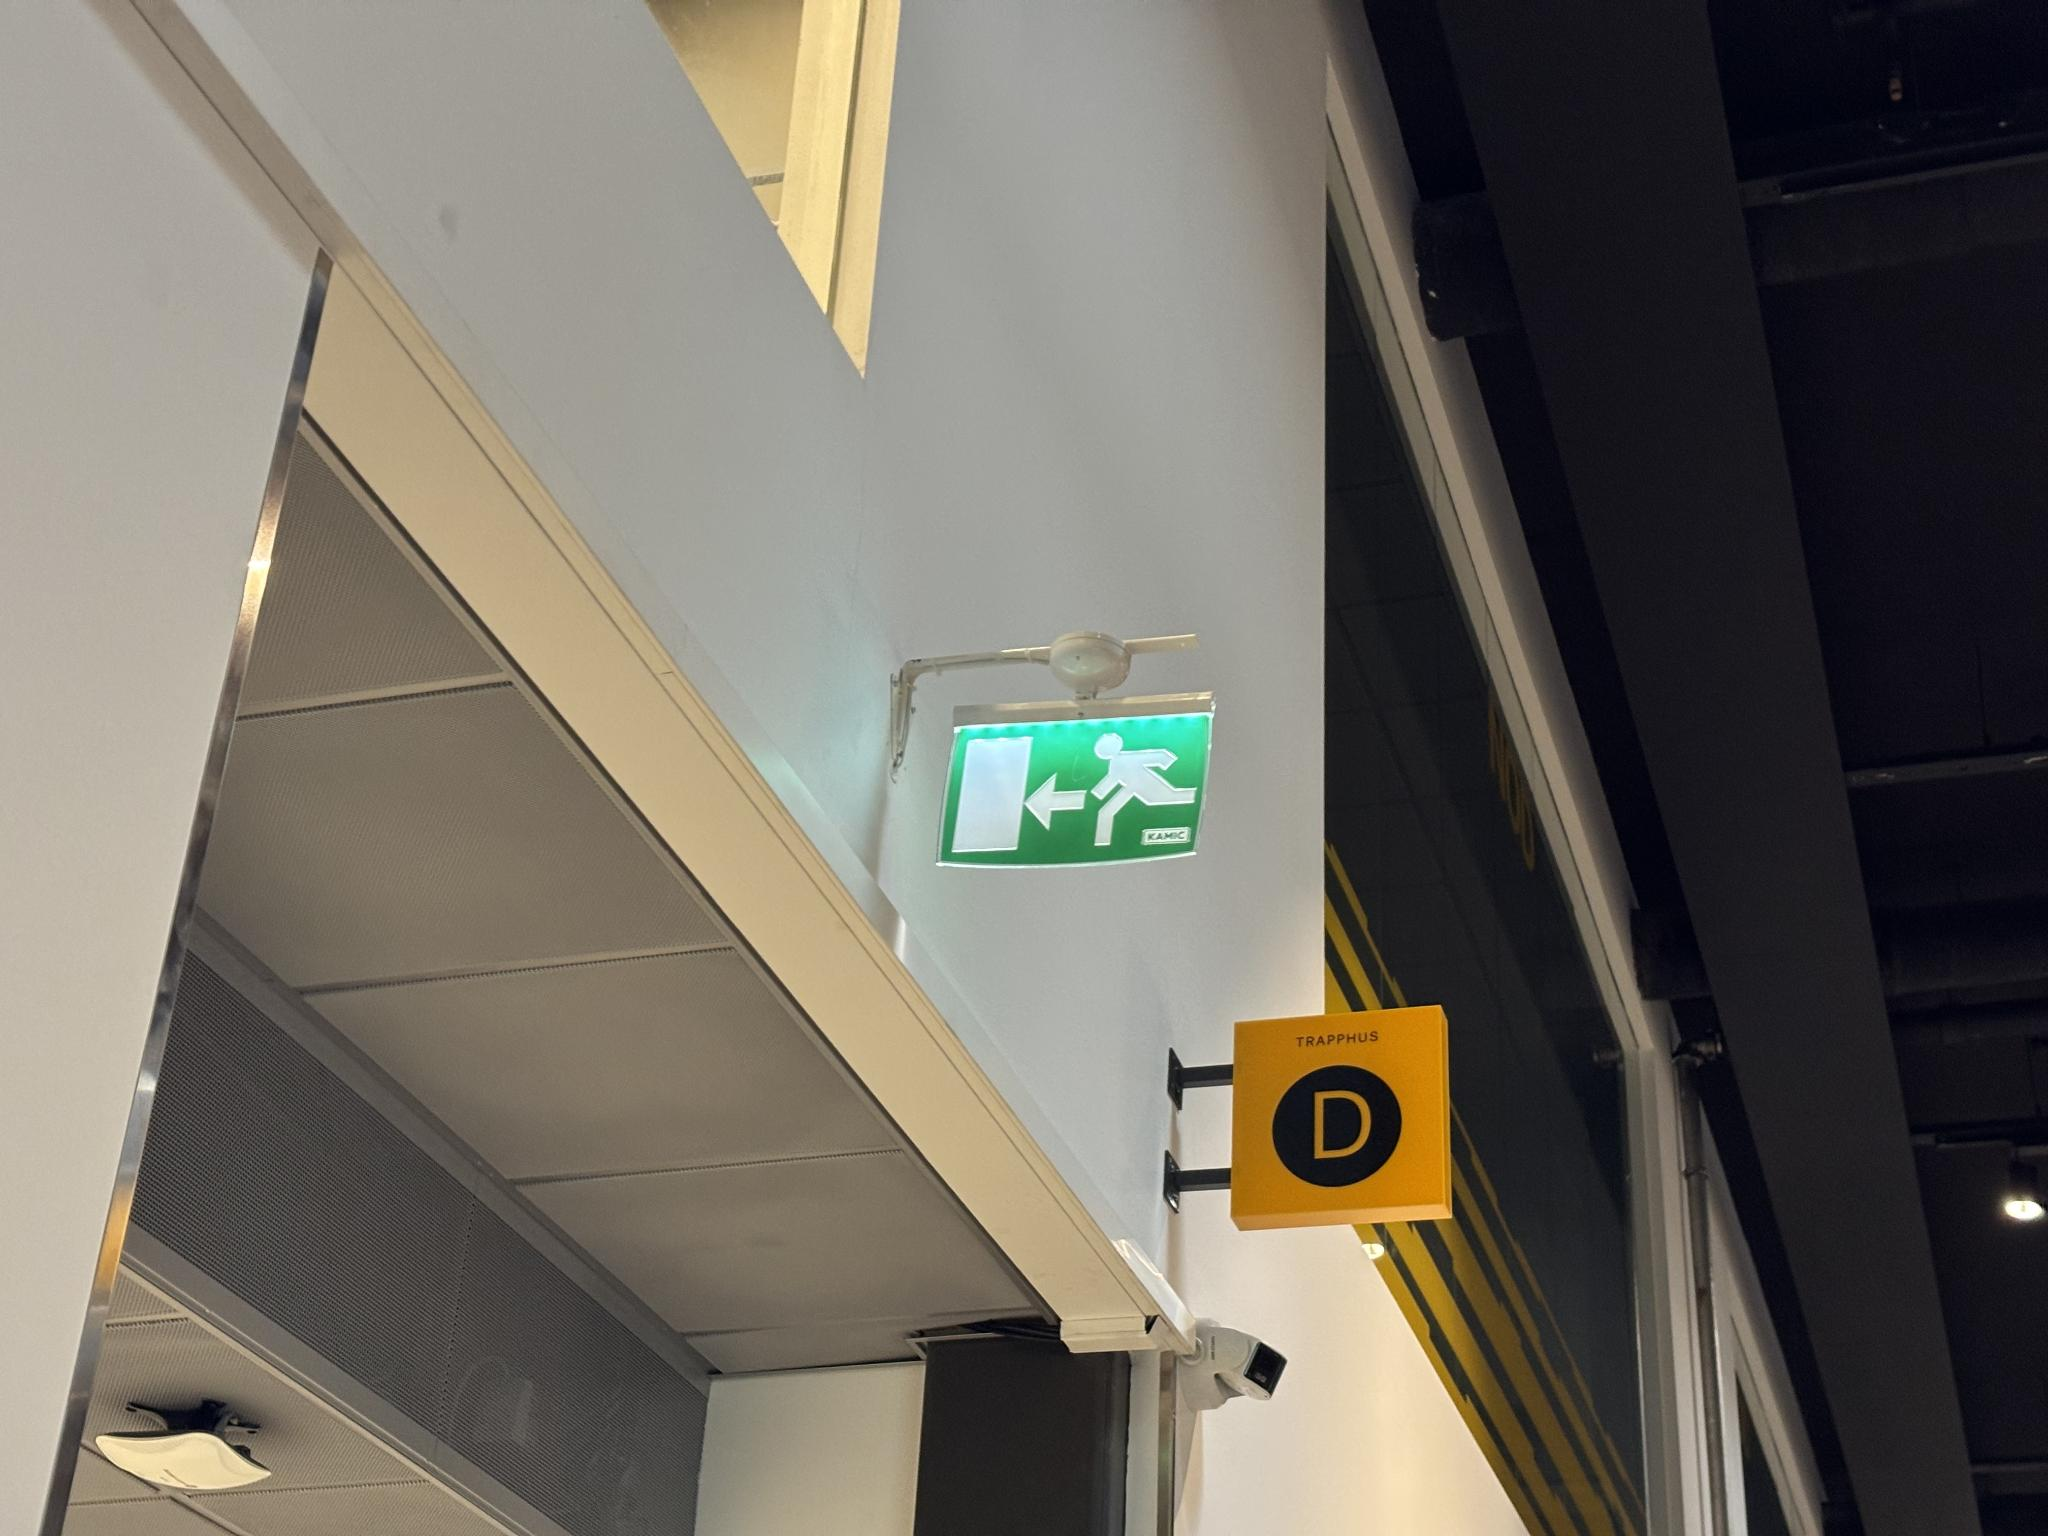exit_sign: (947, 721, 1211, 855)
